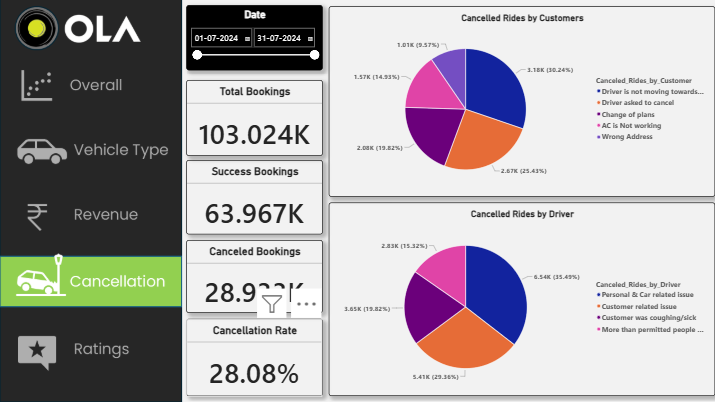

Layout of this report page (visuals, bound fields, positions):
{"tool":"powerbi","page":{"name":"Cancellation","canvas":[1920,1080],"ordinal":3},"visuals":[{"type":"actionButton","box":[0,872.5,490.3,130.2],"z":0},{"type":"actionButton","box":[0,509.6,490.3,130.2],"z":1000},{"type":"actionButton","box":[0,349,490.3,130.2],"z":2000},{"type":"actionButton","box":[0,163.4,490.3,130.2],"z":3000},{"type":"pieChart","title":"Cancelled Rides by Customers","fields":{"Category":["July.Canceled_Rides_by_Customer"],"Y":["CountNonNull(July.Canceled_Rides_by_Customer)"]},"box":[876,16,1030,508],"z":4000},{"type":"pieChart","title":"Cancelled Rides by Driver","fields":{"Category":["July.Canceled_Rides_by_Driver"],"Y":["CountNonNull(July.Canceled_Rides_by_Driver)"]},"box":[876,540,1030,516],"z":5000},{"type":"slicer","title":"Date","fields":{"Values":["July.Date"]},"box":[496,14,364,174],"z":6000},{"type":"cardVisual","title":"Success Bookings","fields":{"Data":["CountNonNull(July.Booking_ID)"]},"box":[496,426,364,198],"z":7000},{"type":"cardVisual","title":"Total Bookings","fields":{"Data":["CountNonNull(July.Booking_ID)"]},"box":[496,212,364,202],"z":8000},{"type":"cardVisual","title":"Canceled Bookings","fields":{"Data":["CountNonNull(July.Booking_ID)"]},"box":[496,640,364,194],"z":9000},{"type":"cardVisual","title":"Cancellation Rate","fields":{"Data":["July.CanceledPercentage"]},"box":[496,850,364,206],"z":10000}]}

Visuals, with their boxes in screenshot pixels (x1, y1, x2, y2), scaled from the page's 1920x1080 canvas onto the 715x402 screenshot:
actionButton: select_region(0, 325, 183, 373)
actionButton: select_region(0, 190, 183, 238)
actionButton: select_region(0, 130, 183, 178)
actionButton: select_region(0, 61, 183, 109)
"Cancelled Rides by Customers" pieChart: select_region(326, 6, 710, 195)
"Cancelled Rides by Driver" pieChart: select_region(326, 201, 710, 393)
"Date" slicer: select_region(185, 5, 320, 70)
"Success Bookings" cardVisual: select_region(185, 159, 320, 232)
"Total Bookings" cardVisual: select_region(185, 79, 320, 154)
"Canceled Bookings" cardVisual: select_region(185, 238, 320, 310)
"Cancellation Rate" cardVisual: select_region(185, 316, 320, 393)
